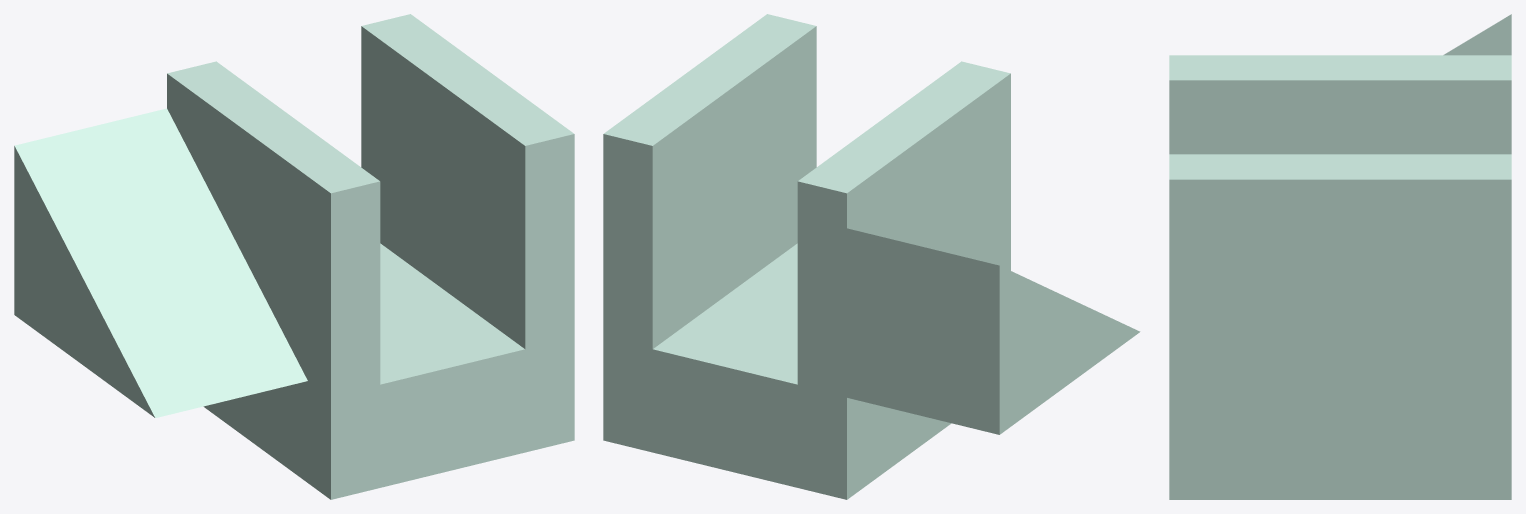
3 renders of one model, left to right at view 1: azimuth 30°, elevation 25°; view 2: azimuth 150°, elevation 25°; view 3: azimuth 270°, elevation 25°, orthographic. The views are drawn at different scales.
Parts seen in each view (by area): view 1: Renderer Node; view 2: Renderer Node; view 3: Renderer Node.
Part boxes in pixels (x1=…): Renderer Node: x1=14, y1=14, x2=574, y2=499; Renderer Node: x1=603, y1=14, x2=1140, y2=499; Renderer Node: x1=1169, y1=14, x2=1511, y2=499.
Size of the model in its own units: 1.01 by 0.75 by 0.7266.
